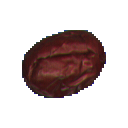ng: (16, 24, 111, 102)
